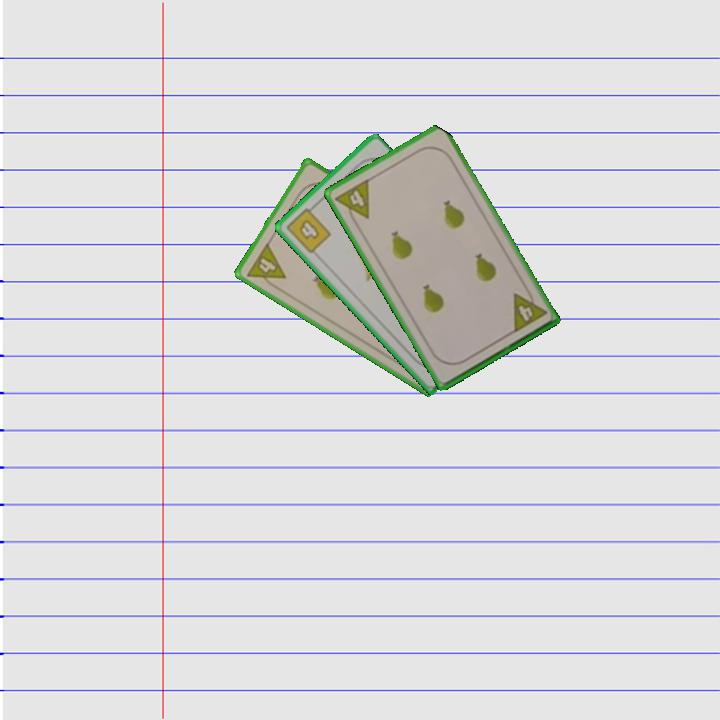4b: (282, 201, 334, 256)
4p: (243, 239, 289, 293), (331, 175, 372, 228), (509, 284, 549, 336)
